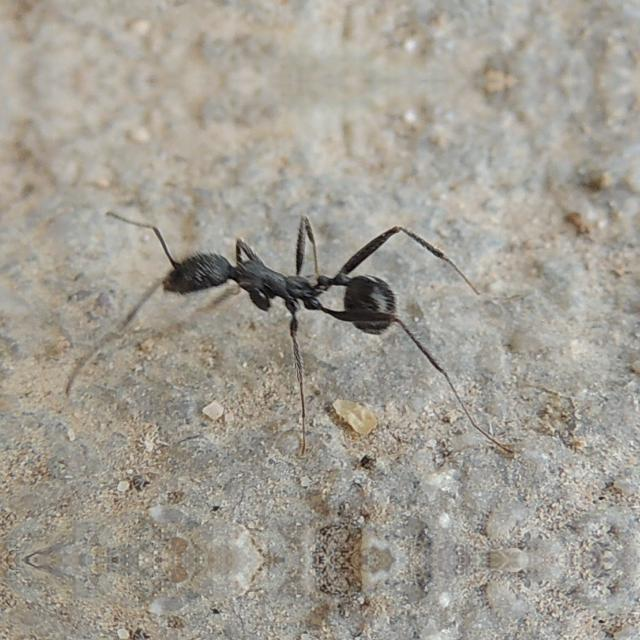Apheanogaster: (130, 216, 430, 352)
